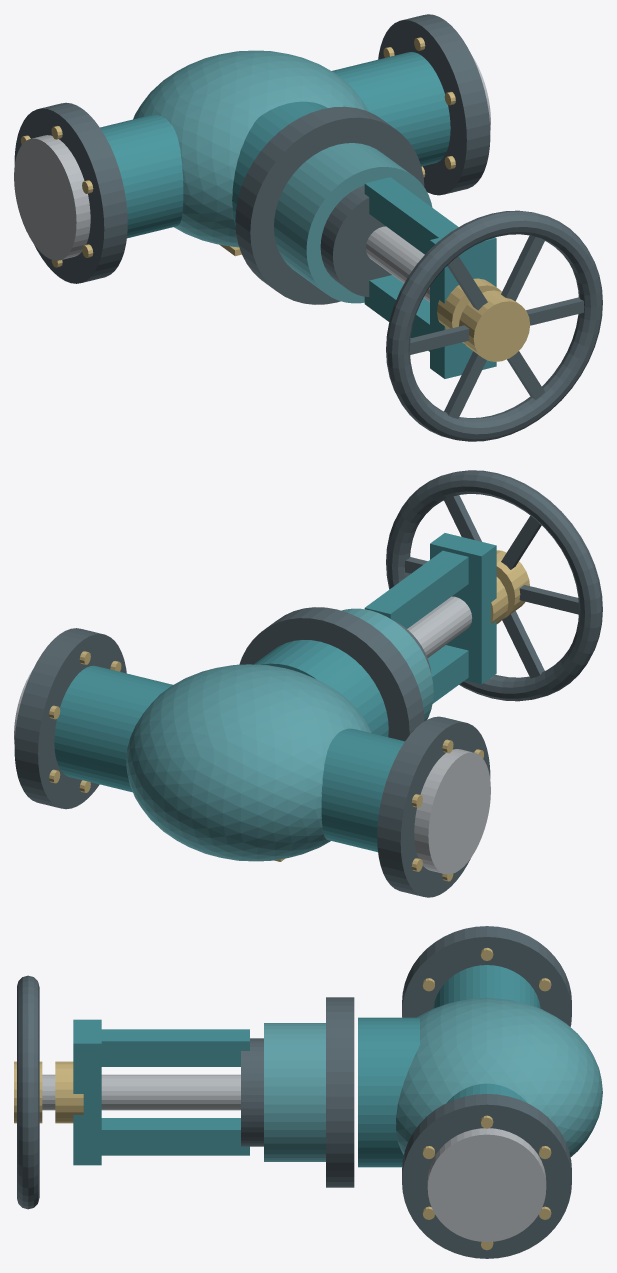
The model's file is ap-valve-gate-handwheel-m04.glb.
3 renders of one model, top to bottom at view 1: azimuth 30°, elevation 25°; view 2: azimuth 150°, elevation 25°; view 3: azimuth 270°, elevation 25°, orthographic. The views are drawn at different scales.
Parts seen in each view (by area): view 1: valve_m04_part_001, valve_m04_part_015, valve_m04_part_000, valve_m04_part_007, valve_m04_part_008, valve_m04_part_003, valve_m04_part_002, valve_m04_part_004, valve_m04_part_009, valve_m04_part_012, valve_m04_part_016, valve_m04_part_013 (+10 smaller); view 2: valve_m04_part_001, valve_m04_part_000, valve_m04_part_015, valve_m04_part_003, valve_m04_part_002, valve_m04_part_007, valve_m04_part_004, valve_m04_part_013, valve_m04_part_006, valve_m04_part_012, valve_m04_part_008, valve_m04_part_010 (+6 smaller); view 3: valve_m04_part_001, valve_m04_part_003, valve_m04_part_005, valve_m04_part_008, valve_m04_part_002, valve_m04_part_006, valve_m04_part_010, valve_m04_part_007, valve_m04_part_012, valve_m04_part_011, valve_m04_part_015, valve_m04_part_013 (+3 smaller).
Boxes of the visible parts, x1,y1,x2,y2 form: valve_m04_part_001: [133, 50, 369, 247]; valve_m04_part_015: [386, 210, 602, 441]; valve_m04_part_000: [100, 52, 450, 238]; valve_m04_part_007: [235, 106, 424, 304]; valve_m04_part_008: [274, 143, 432, 303]; valve_m04_part_003: [378, 14, 490, 195]; valve_m04_part_002: [14, 102, 127, 283]; valve_m04_part_004: [14, 135, 90, 260]; valve_m04_part_009: [320, 185, 391, 296]; valve_m04_part_012: [364, 177, 458, 254]; valve_m04_part_016: [459, 290, 530, 361]; valve_m04_part_013: [430, 236, 496, 378]; valve_m04_part_001: [126, 664, 371, 861]; valve_m04_part_000: [54, 665, 404, 852]; valve_m04_part_015: [386, 470, 602, 701]; valve_m04_part_003: [14, 628, 126, 809]; valve_m04_part_002: [377, 716, 490, 897]; valve_m04_part_007: [239, 607, 424, 741]; valve_m04_part_004: [414, 749, 490, 874]; valve_m04_part_013: [430, 533, 496, 684]; valve_m04_part_006: [254, 640, 388, 736]; valve_m04_part_012: [364, 550, 468, 628]; valve_m04_part_008: [341, 608, 433, 720]; valve_m04_part_010: [407, 596, 472, 657]; valve_m04_part_001: [396, 998, 602, 1156]; valve_m04_part_003: [402, 1094, 571, 1258]; valve_m04_part_005: [427, 1128, 546, 1241]; valve_m04_part_008: [264, 1023, 325, 1161]; valve_m04_part_002: [402, 926, 571, 1026]; valve_m04_part_006: [358, 1017, 419, 1167]; valve_m04_part_010: [42, 1074, 240, 1110]; valve_m04_part_007: [326, 997, 354, 1187]; valve_m04_part_012: [101, 1029, 249, 1066]; valve_m04_part_011: [101, 1118, 249, 1155]; valve_m04_part_015: [17, 975, 39, 1209]; valve_m04_part_013: [73, 1019, 101, 1165].
Bounding box in the file's own units: 1.85 × 0.9534 × 2.4.
